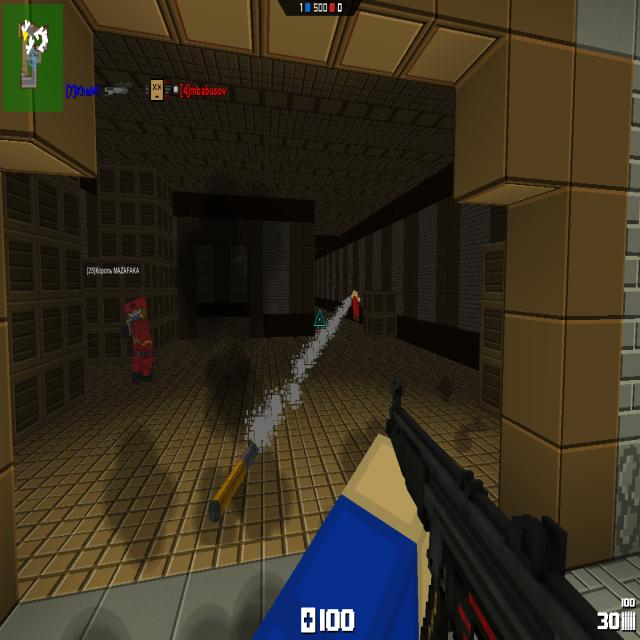enemy: (122, 297, 152, 384)
